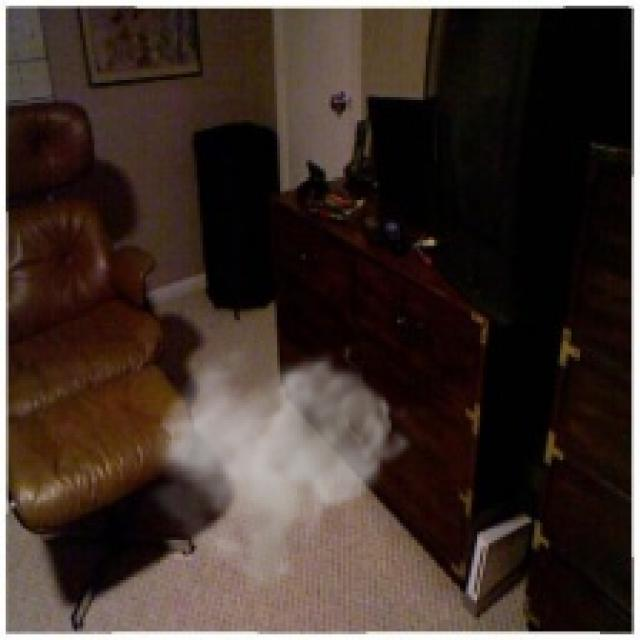Smoke: (146, 331, 414, 606)
